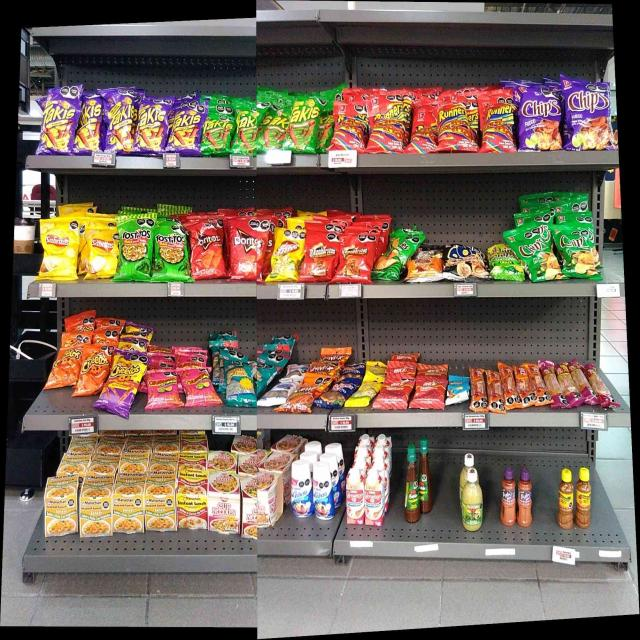bitzAlmendras: (449, 381, 466, 400)
bitzEnchilado90: (383, 379, 410, 407), (419, 380, 443, 408)
bitzEnchilado95: (487, 370, 503, 410), (470, 369, 485, 410), (505, 366, 517, 408), (530, 364, 542, 403), (519, 367, 530, 407)
bitzHabanero: (545, 362, 605, 409)
bokadosCacahuates: (327, 384, 352, 403)
botaneraChilito: (576, 467, 591, 527), (559, 468, 573, 526)
cheetosFlaminHot: (110, 352, 140, 412)
cheetosOriginal: (81, 346, 107, 387), (55, 346, 79, 381)
chipsFuego: (568, 85, 608, 148), (521, 93, 560, 149)
chipsJalapeno: (558, 224, 593, 277), (521, 230, 556, 277)
chipsPapatinas: (491, 244, 520, 278)
churrumais: (147, 372, 179, 405), (182, 370, 212, 402)
delPrimoSalsa: (462, 469, 482, 533)
doritosNacho: (232, 224, 264, 282), (194, 222, 222, 277)
fritosLimon: (275, 233, 300, 279)
hotNutsOriginal: (408, 258, 441, 280)
leoCacahuates: (265, 384, 291, 403)
leoMix: (293, 382, 323, 409)
maruchanPollo: (146, 470, 178, 530), (46, 476, 79, 531), (83, 475, 113, 533), (117, 472, 144, 532)
maruchanRes: (178, 470, 207, 528)
nestleCarnation: (366, 470, 386, 527), (346, 466, 364, 526)
nestleLechera: (312, 464, 332, 518), (292, 461, 311, 517)
nissinCamaron: (209, 470, 239, 530)
nissinRes: (242, 480, 256, 540)
popKarameladas: (444, 245, 489, 278)
rancheritos: (339, 236, 369, 281), (307, 234, 336, 280)
rufflesQueso: (389, 239, 416, 254)
runners: (332, 101, 366, 151), (439, 104, 468, 152), (371, 116, 403, 156), (486, 106, 514, 149), (409, 122, 438, 154)
sabritasOriginal: (44, 224, 76, 275), (88, 232, 116, 275)
salsaBufalo: (420, 440, 432, 511), (407, 447, 418, 519)
semillasCalabaza: (355, 382, 380, 403)
semillasGirasol: (227, 363, 251, 406), (255, 366, 281, 383)
tajinDulce: (500, 467, 516, 525), (519, 469, 533, 526)
takisFuego: (43, 100, 77, 151), (103, 103, 134, 153), (137, 104, 166, 153), (169, 110, 200, 154), (78, 100, 101, 152)
takisOriginal: (292, 102, 321, 152), (202, 115, 232, 154), (235, 108, 257, 157), (260, 114, 286, 150)
tostitos: (120, 219, 151, 279), (154, 222, 186, 277)
